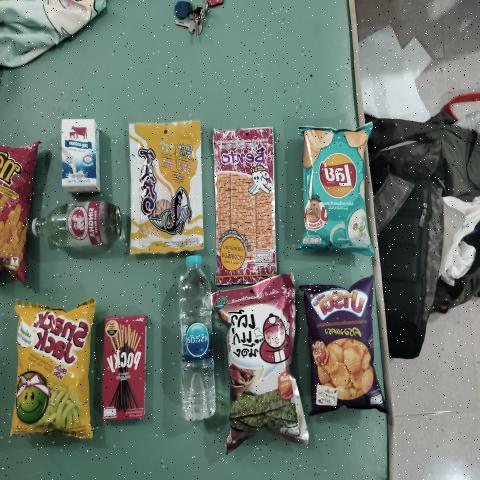bento_red: (218, 133, 274, 278)
crystal: (180, 255, 211, 420)
lay_blue: (308, 129, 369, 241)
party_purple: (308, 286, 376, 415)
pokki: (101, 316, 146, 418)
singha_soda: (30, 196, 126, 252)
snack_jack: (14, 305, 86, 433)
tao: (224, 288, 286, 430)
taro_yellow: (130, 127, 203, 245)
thai_denmark: (61, 120, 101, 190)
